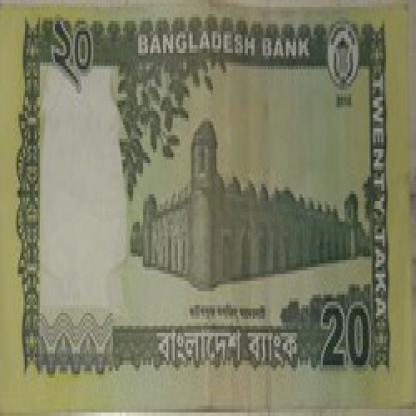Twenty: (314, 284, 374, 385), (46, 10, 96, 80)
